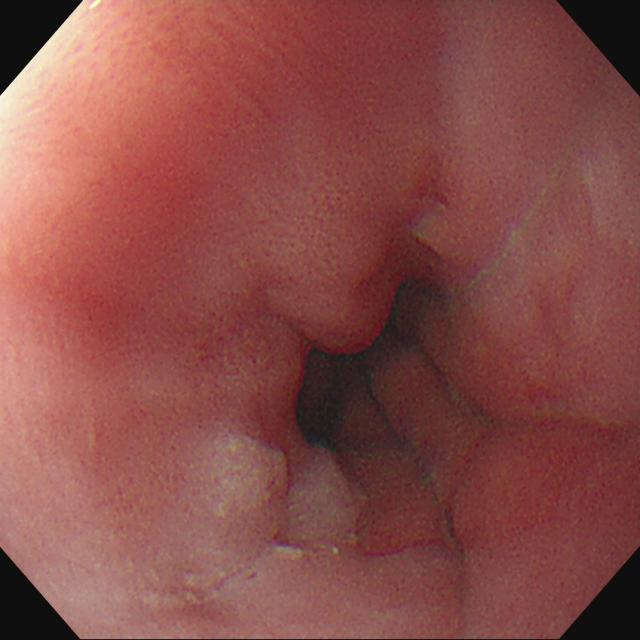E: (288, 272, 453, 452)
